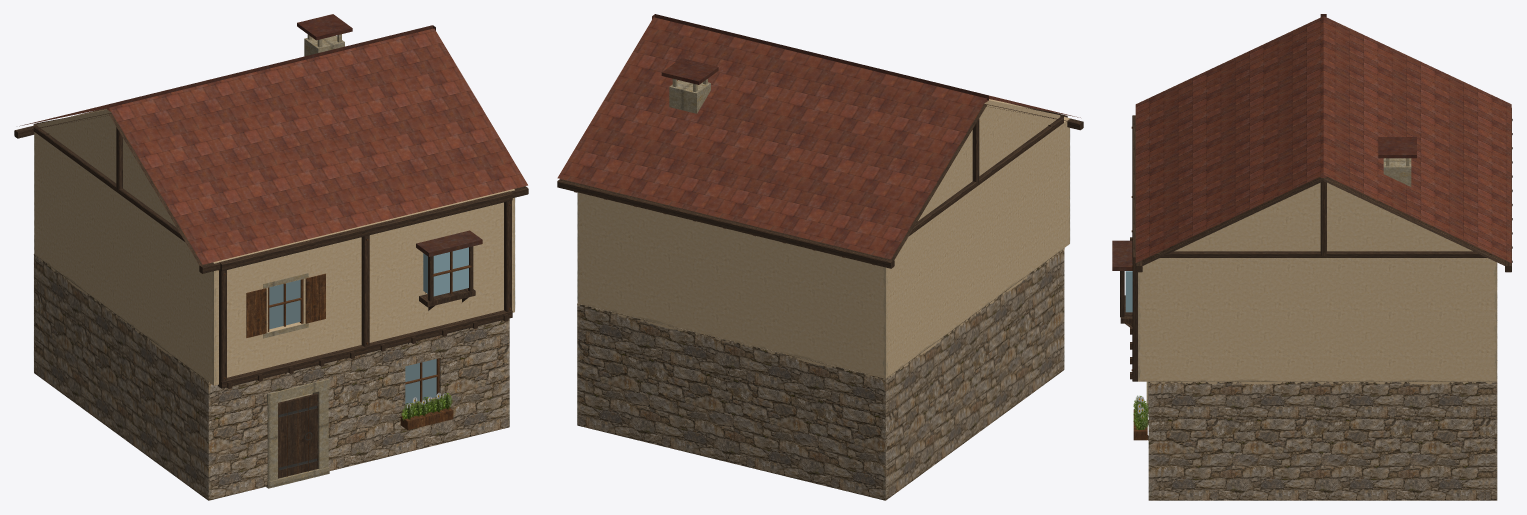
Rendered from B17_vivienda.gltf.
3 views of the same model, side by side, from view 1: azimuth 30°, elevation 25°; view 2: azimuth 150°, elevation 25°; view 3: azimuth 270°, elevation 25° (orthographic). The views are drawn at different scales.
Visible parts, largest first — view 1: AUR034_B17_clay_tiles, B17_runtime_static_102, AUR034_B17_lower_masonry, B17_runtime_static_015, B17_runtime_static_000, AUR034_B17_entry_leaf0, B17_runtime_static_106, B17_runtime_static_079, B17_runtime_static_104, AUR034_B17_ridge, AUR034_B17_oriel2_clay_hood, AUR034_B17_window1_shutter1 (+3 smaller); view 2: B17_runtime_static_102, AUR034_B17_clay_tiles, AUR034_B17_lower_masonry, B17_runtime_static_015, AUR034_B17_ridge, B17_runtime_static_000, B17_plaster_stone_joint_wear, AUR034_B17_cowl; view 3: AUR034_B17_clay_tiles, B17_runtime_static_102, AUR034_B17_lower_masonry, B17_runtime_static_015, AUR034_B17_cowl, B17_runtime_static_000, AUR034_B17_oriel2_clay_hood, B17_plaster_stone_joint_wear.
Boxes of the visible parts, x1,y1,x2,y2 form: AUR034_B17_clay_tiles: [19, 28, 527, 264]; B17_runtime_static_102: [34, 109, 514, 385]; AUR034_B17_lower_masonry: [34, 254, 509, 500]; B17_runtime_static_015: [14, 108, 528, 389]; B17_runtime_static_000: [263, 34, 426, 488]; AUR034_B17_entry_leaf0: [278, 393, 318, 478]; B17_runtime_static_106: [269, 280, 436, 404]; B17_runtime_static_079: [224, 204, 510, 476]; B17_runtime_static_104: [423, 247, 468, 296]; AUR034_B17_ridge: [107, 25, 435, 111]; AUR034_B17_oriel2_clay_hood: [416, 230, 482, 256]; AUR034_B17_window1_shutter1: [305, 273, 325, 323]; B17_runtime_static_102: [577, 99, 1069, 378]; AUR034_B17_clay_tiles: [557, 17, 1080, 259]; AUR034_B17_lower_masonry: [577, 248, 1064, 500]; B17_runtime_static_015: [557, 102, 1083, 268]; AUR034_B17_ridge: [652, 14, 988, 102]; B17_runtime_static_000: [669, 78, 710, 113]; B17_plaster_stone_joint_wear: [577, 248, 1064, 379]; AUR034_B17_cowl: [661, 58, 718, 84]; AUR034_B17_clay_tiles: [1135, 16, 1511, 262]; B17_runtime_static_102: [1138, 182, 1496, 381]; AUR034_B17_lower_masonry: [1148, 262, 1497, 500]; B17_runtime_static_015: [1120, 108, 1512, 440]; AUR034_B17_cowl: [1378, 137, 1416, 158]; B17_runtime_static_000: [1146, 158, 1411, 413]; AUR034_B17_oriel2_clay_hood: [1112, 240, 1132, 270]; B17_plaster_stone_joint_wear: [1143, 380, 1497, 384].
Size of the model in its own units: 8.96 by 8.82 by 9.54.
16 materials, 14 textured.
